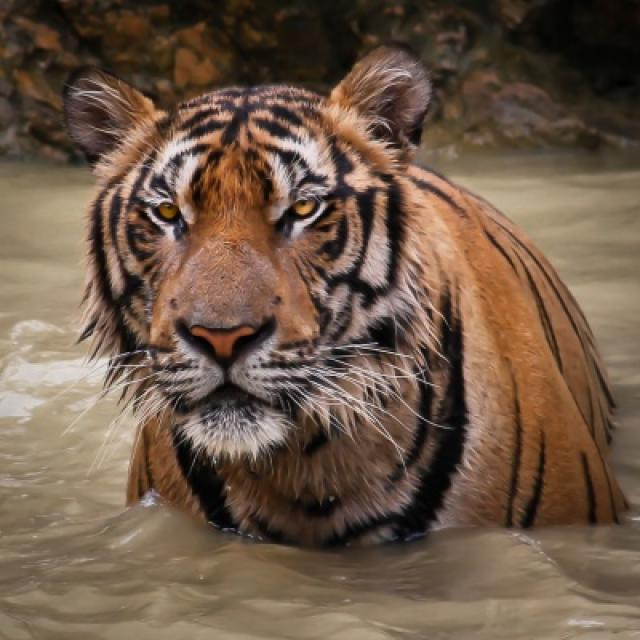Tiger: (64, 48, 613, 541)
